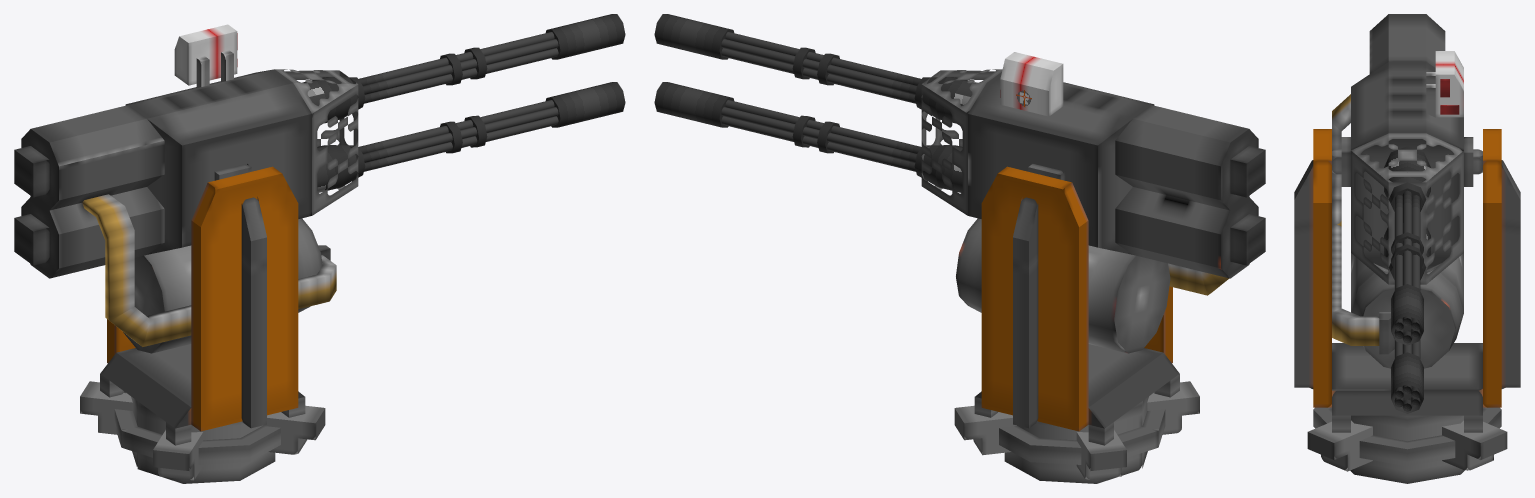
File: turret_howard.obj
3 views of the same model, side by side, from view 1: azimuth 30°, elevation 25°; view 2: azimuth 150°, elevation 25°; view 3: azimuth 270°, elevation 25° (orthographic).
Parts seen in each view (by area): view 1: Body, Carriage, BarrelsBottom, BarrelsTop; view 2: Body, Carriage, BarrelsBottom, BarrelsTop; view 3: Carriage, Body, BarrelsTop, BarrelsBottom.
Boxes of the visible parts, <box> form: Body: <box>14,24,358,353</box>; Carriage: <box>80,166,325,483</box>; BarrelsBottom: <box>317,82,625,192</box>; BarrelsTop: <box>302,14,625,123</box>; Body: <box>921,52,1265,353</box>; Carriage: <box>954,166,1199,483</box>; BarrelsBottom: <box>654,82,962,192</box>; BarrelsTop: <box>654,14,977,123</box>; Carriage: <box>1294,129,1520,483</box>; Body: <box>1332,14,1482,368</box>; BarrelsTop: <box>1384,146,1430,345</box>; BarrelsBottom: <box>1384,227,1430,413</box>.
Size of the model in its own units: 4.56 by 2.94 by 1.5.
